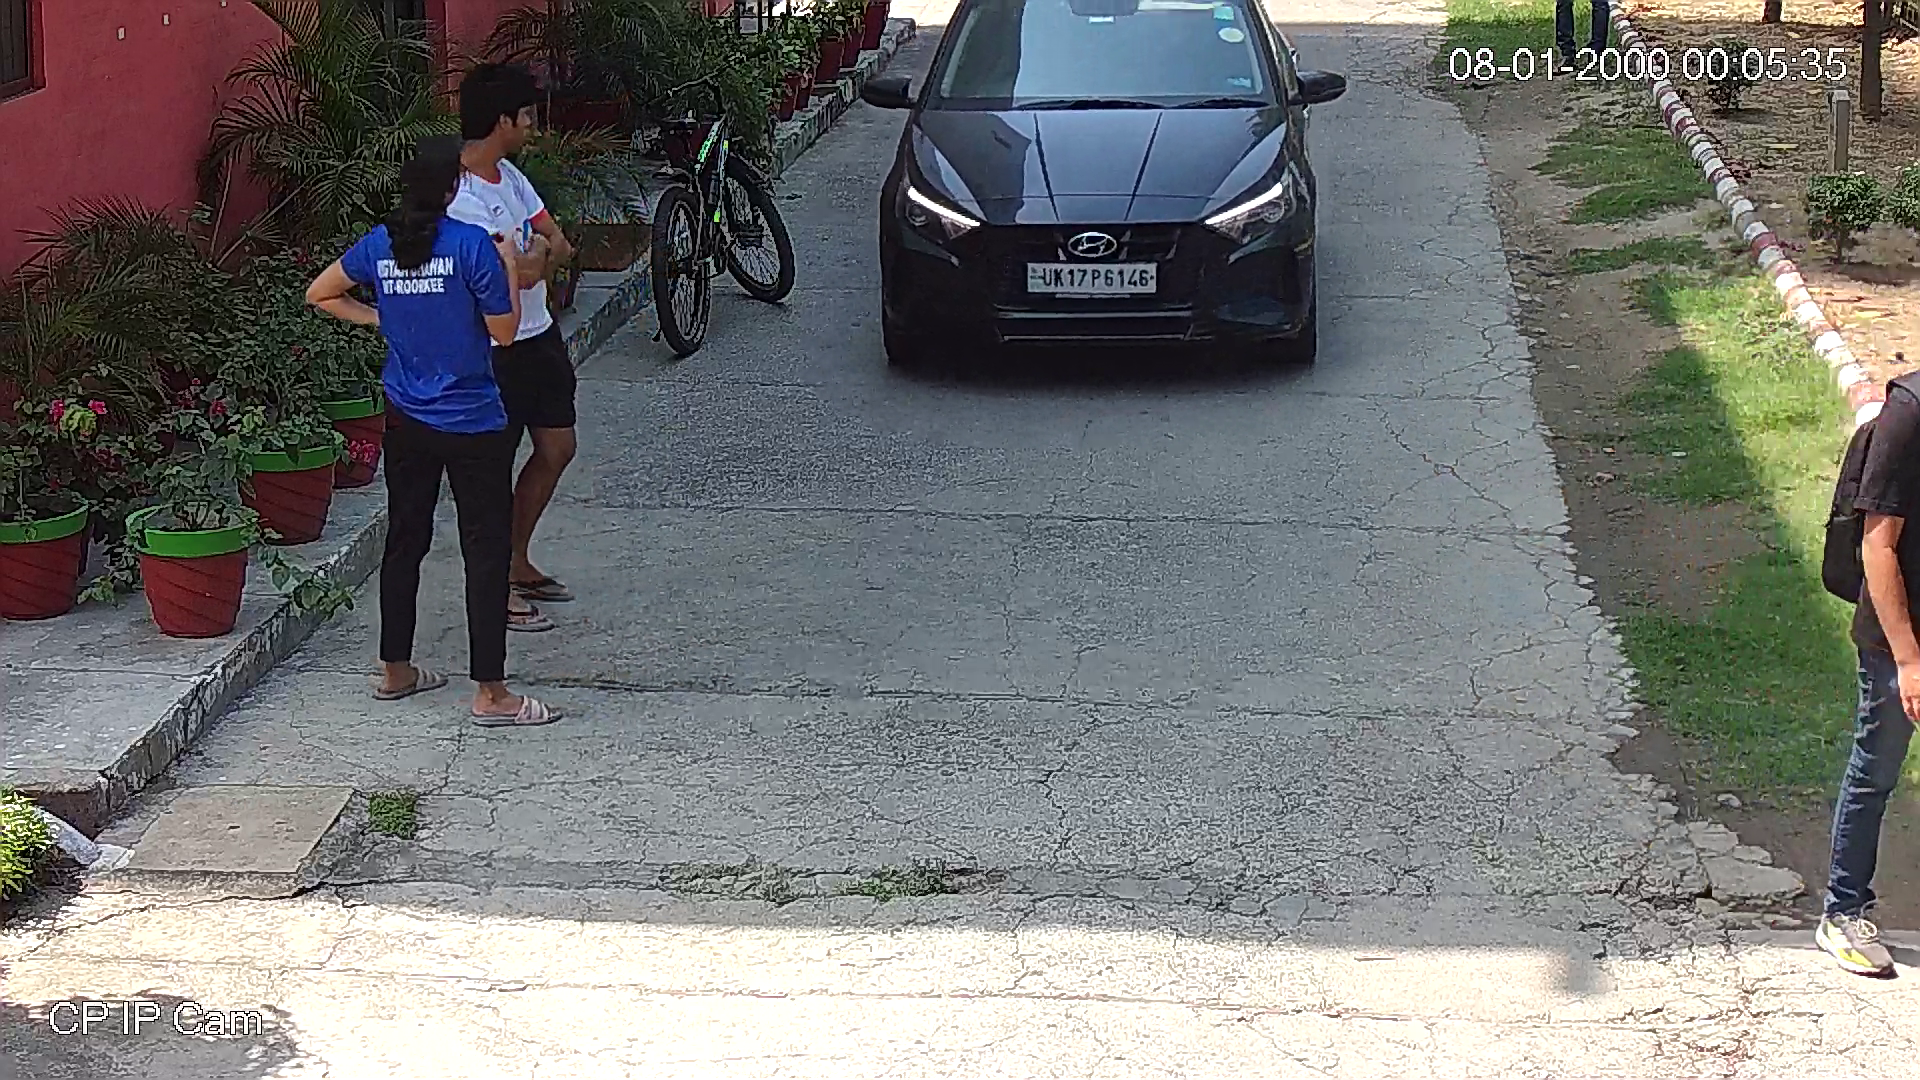plate: (1022, 257, 1159, 296)
